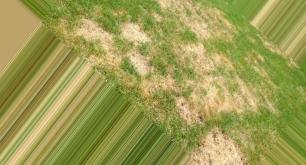patch: (140, 21, 172, 48), (210, 135, 233, 162), (181, 14, 210, 33), (187, 91, 216, 110), (106, 32, 134, 46), (132, 57, 153, 75), (180, 50, 205, 65), (227, 89, 251, 103)
